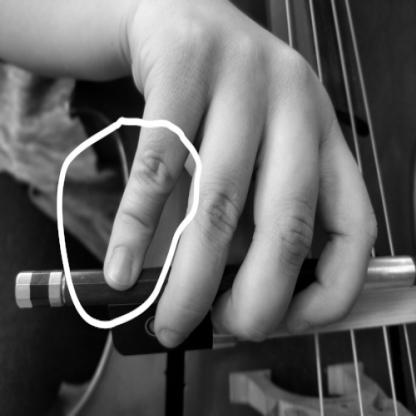bad: (115, 2, 378, 369)
